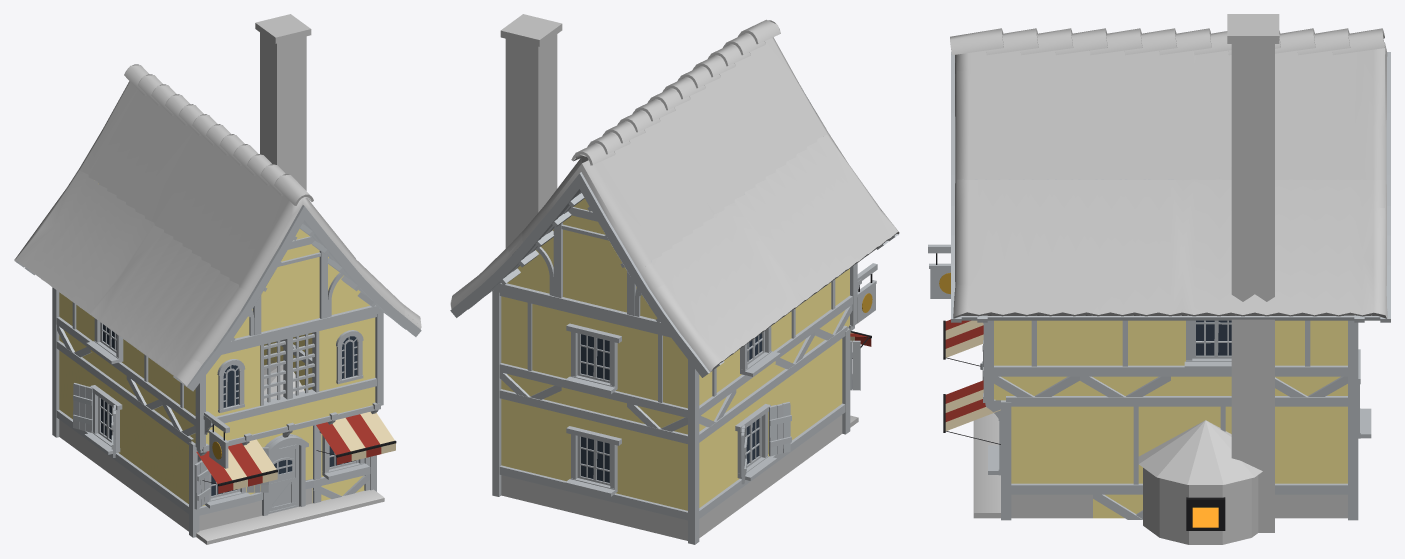
Rendered from bakery.gltf.
3 views of the same model, side by side, from view 1: azimuth 30°, elevation 25°; view 2: azimuth 150°, elevation 25°; view 3: azimuth 270°, elevation 25° (orthographic). The views are drawn at different scales.
Visible parts, largest first — view 1: Roof_RoundTiles_6x8.059, Roof_Front_Brick6.060, Stack.066, Wall_Plaster_WoodGrid+upper.038, Wall_Plaster_Window_Thin_Round+upper.039, Wall_Plaster_Straight_Base.017, Wall_Plaster_Window_Thin_Round+upper.036, Wall_Plaster_Straight_Base.018, Wall_Plaster_Straight_Base.013, Wall_Plaster_Window_Wide_Flat2.007, Wall_Plaster_Straight+upper.048, Door_1_Round.006 (+28 smaller); view 2: Roof_RoundTiles_6x8.059, Roof_Front_Brick6.061, Stack.066, Wall_Plaster_Straight_Base.009, Wall_Plaster_Straight_Base.012, Wall_Plaster_Straight+upper.041, Wall_Plaster_Straight+upper.044, Wall_Plaster_Window_Wide_Flat.010, Wall_Plaster_Straight_Base.018, Wall_Plaster_Straight_Base.013, Wall_Plaster_Window_Wide_Flat+upper.042, Window_Wide_Flat1.011 (+17 smaller); view 3: Roof_RoundTiles_6x8.059, Stack.066, Wall_Plaster_Straight_Base.019, Wall_Plaster_Straight_Base.022, Wall_Plaster_Straight.020, Wall_Plaster_Straight+upper.051, Wall_Plaster_Straight+upper.050, Oven.062, Wall_Plaster_Straight+upper.054, OvenDome.063, Window_Wide_Flat1.053, Wall_Plaster_Window_Wide_Flat+upper.052 (+15 smaller).
Part boxes in pixels (x1,y1,x2,y2): Roof_RoundTiles_6x8.059: [14, 64, 421, 391]; Roof_Front_Brick6.060: [224, 224, 383, 351]; Stack.066: [260, 32, 306, 363]; Wall_Plaster_WoodGrid+upper.038: [260, 328, 320, 432]; Wall_Plaster_Window_Thin_Round+upper.039: [319, 314, 376, 417]; Wall_Plaster_Straight_Base.017: [123, 389, 159, 510]; Wall_Plaster_Window_Thin_Round+upper.036: [206, 342, 261, 444]; Wall_Plaster_Straight_Base.018: [157, 414, 193, 531]; Wall_Plaster_Straight_Base.013: [56, 340, 91, 460]; Wall_Plaster_Window_Wide_Flat2.007: [312, 425, 370, 503]; Wall_Plaster_Straight+upper.048: [126, 343, 164, 417]; Door_1_Round.006: [268, 444, 298, 513]; Roof_RoundTiles_6x8.059: [450, 19, 899, 377]; Roof_Front_Brick6.061: [492, 193, 668, 333]; Stack.066: [505, 34, 557, 248]; Wall_Plaster_Straight_Base.009: [499, 389, 563, 510]; Wall_Plaster_Straight_Base.012: [626, 420, 687, 540]; Wall_Plaster_Straight+upper.041: [499, 293, 563, 403]; Wall_Plaster_Straight+upper.044: [626, 324, 687, 434]; Wall_Plaster_Window_Wide_Flat.010: [561, 404, 628, 526]; Wall_Plaster_Straight_Base.018: [807, 325, 847, 459]; Wall_Plaster_Straight_Base.013: [699, 408, 734, 537]; Wall_Plaster_Window_Wide_Flat+upper.042: [561, 308, 628, 419]; Window_Wide_Flat1.011: [565, 426, 621, 496]; Roof_RoundTiles_6x8.059: [950, 28, 1390, 322]; Stack.066: [1231, 44, 1274, 532]; Wall_Plaster_Straight_Base.019: [1006, 396, 1092, 518]; Wall_Plaster_Straight_Base.022: [1275, 396, 1347, 518]; Wall_Plaster_Straight.020: [1093, 396, 1179, 519]; Wall_Plaster_Straight+upper.051: [1080, 320, 1170, 397]; Wall_Plaster_Straight+upper.050: [994, 320, 1079, 400]; Oven.062: [1143, 468, 1258, 544]; Wall_Plaster_Straight+upper.054: [1275, 320, 1347, 397]; OvenDome.063: [1138, 420, 1262, 484]; Window_Wide_Flat1.053: [1184, 320, 1231, 370]; Wall_Plaster_Window_Wide_Flat+upper.052: [1171, 320, 1231, 395].
Bounding box in the file's own units: 8.69 × 12.71 × 10.67.
